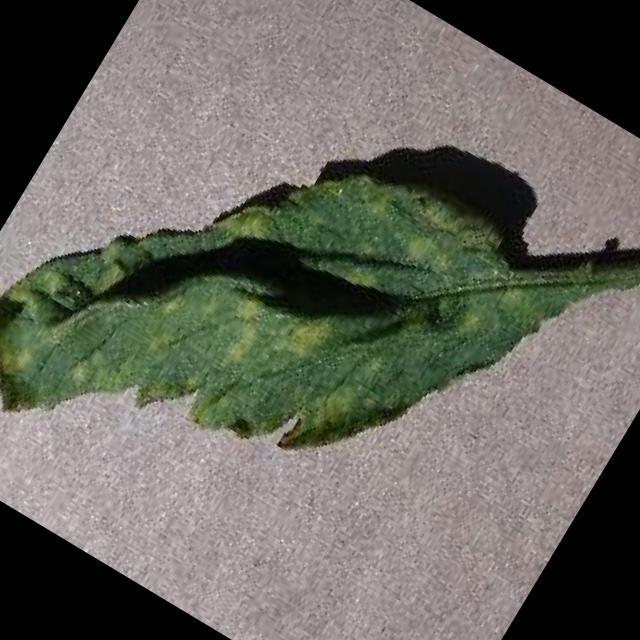Tomato mold leaf: (0, 22, 574, 631)
